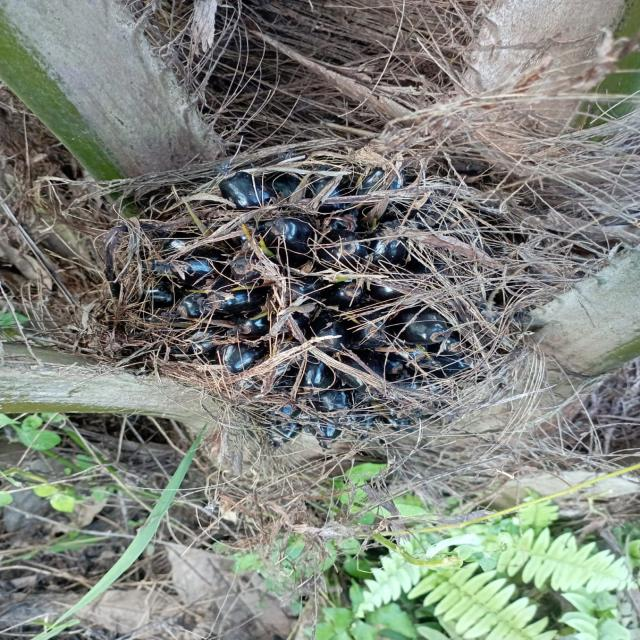fraksi 00: (76, 102, 592, 494)
